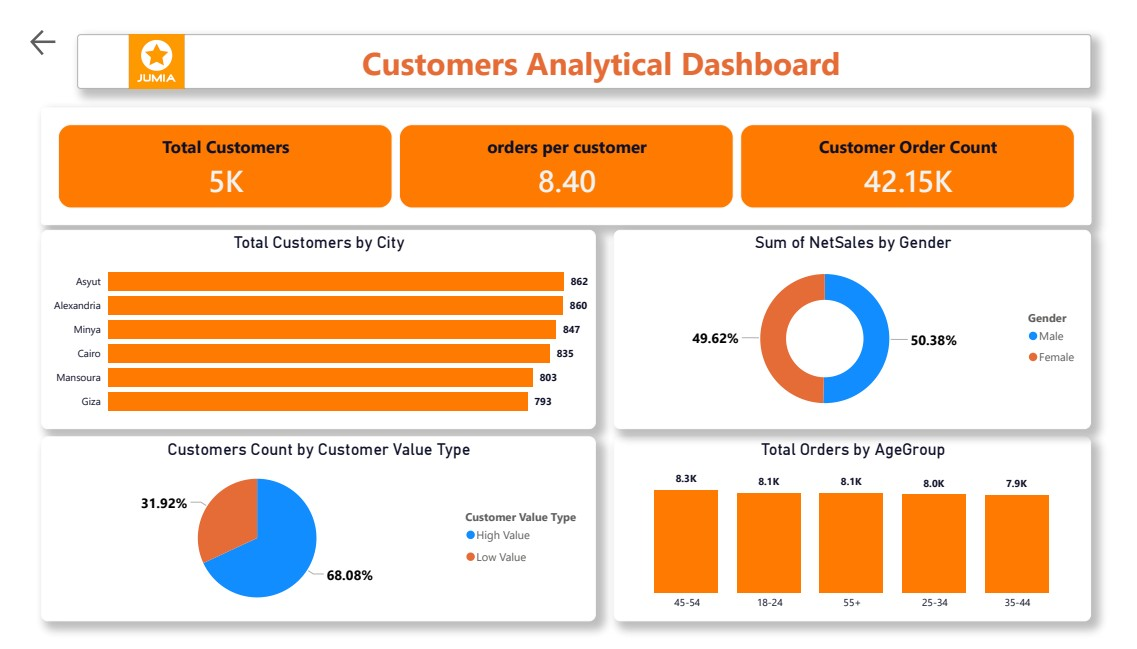

The page's visual inventory and layout, read from the dashboard file:
{"tool":"powerbi","page":{"name":"Customers","canvas":[1280,720],"ordinal":4},"visuals":[{"type":"actionButton","box":[0,0,61.7,40],"z":0},{"type":"cardVisual","fields":{"Data":["Dim_Customers.Total Customers","Dim_Customers.orders per customer","Dim_Customers.AVG Net sales per customer"]},"box":[16.7,96.7,1250,140],"z":1000},{"type":"barChart","fields":{"Category":["Dim_Customers.City"],"Y":["Dim_Customers.Total Customers"]},"box":[16.7,243.3,660,236.7],"z":2000},{"type":"columnChart","fields":{"Category":["Dim_Customers.AgeGroup"],"Y":["Fact_Orders.Total Orders"]},"box":[698.3,488.3,568.3,220],"z":3000},{"type":"donutChart","fields":{"Category":["Dim_Customers.Gender"],"Y":["Sum(Fact_Orders.NetSales)"]},"box":[698.3,243.3,568.3,236.7],"z":4000},{"type":"pieChart","fields":{"Category":["Dim_Customers.Customer Value Type"],"Y":["Dim_Customers.Customers Count"]},"box":[16.7,488.3,660,220],"z":5000},{"type":"group","id":"g1","title":"Group 1","box":[60,10,1206.7,65],"z":6000},{"type":"textbox","box":[60,10,1206.7,65],"z":14000,"group":"g1"},{"type":"image","box":[60,10,189.3,65],"z":14500,"group":"g1"}]}

Visuals, with their boxes in screenshot pixels (x1, y1, x2, y2), scaled from the page's 1280x720 canvas onto the 1137x649 screenshot:
actionButton: l=0, t=0, r=55, b=36
cardVisual - Dim_Customers.Total Customers x Dim_Customers.orders per customer: l=15, t=87, r=1125, b=213
barChart - Dim_Customers.City x Dim_Customers.Total Customers: l=15, t=219, r=601, b=433
columnChart - Dim_Customers.AgeGroup x Fact_Orders.Total Orders: l=620, t=440, r=1125, b=638
donutChart - Dim_Customers.Gender x Sum(Fact_Orders.NetSales): l=620, t=219, r=1125, b=433
pieChart - Dim_Customers.Customer Value Type x Dim_Customers.Customers Count: l=15, t=440, r=601, b=638
"Group 1" group: l=53, t=9, r=1125, b=68
textbox: l=53, t=9, r=1125, b=68
image: l=53, t=9, r=221, b=68
